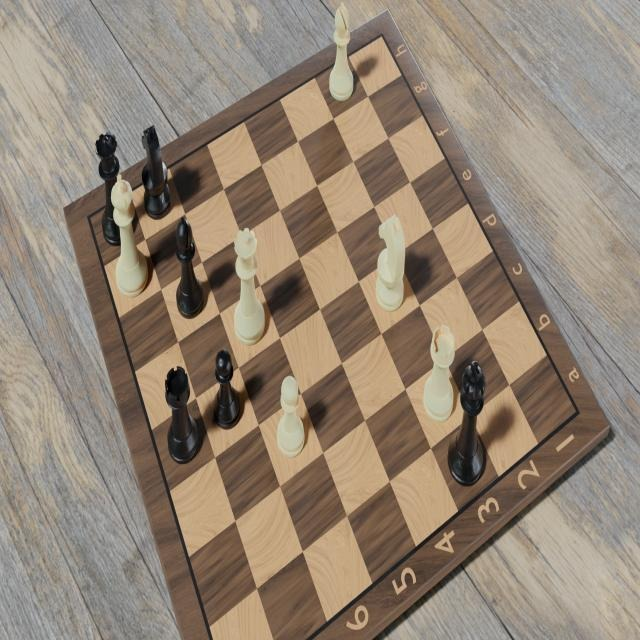black-bishop: (173, 214, 207, 322)
black-king: (448, 357, 488, 495)
black-knight: (140, 122, 174, 222)
black-pawn: (209, 346, 243, 432)
black-queen: (94, 130, 130, 246)
black-rook: (162, 361, 197, 467)
white-bishop: (328, 0, 359, 106)
white-king: (111, 177, 149, 305)
white-knight: (376, 213, 408, 315)
white-pawn: (273, 371, 307, 461)
white-queen: (230, 225, 269, 347)
white-rook: (424, 322, 458, 425)
